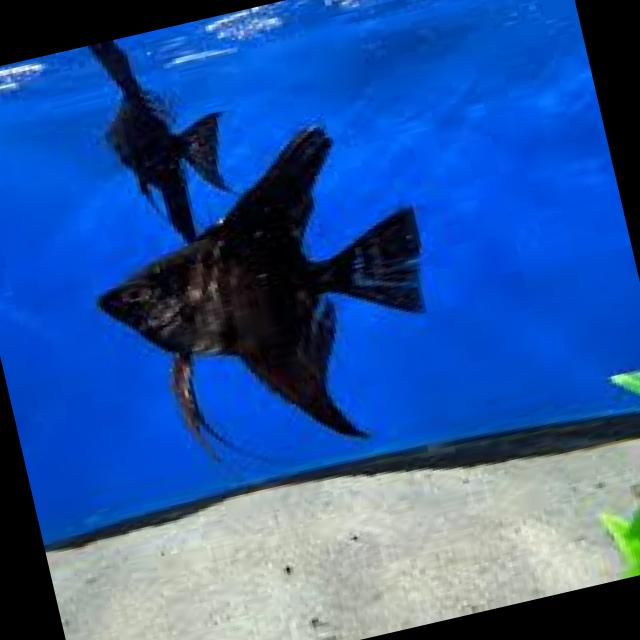AngelFish: (73, 112, 467, 489), (82, 19, 250, 252)
